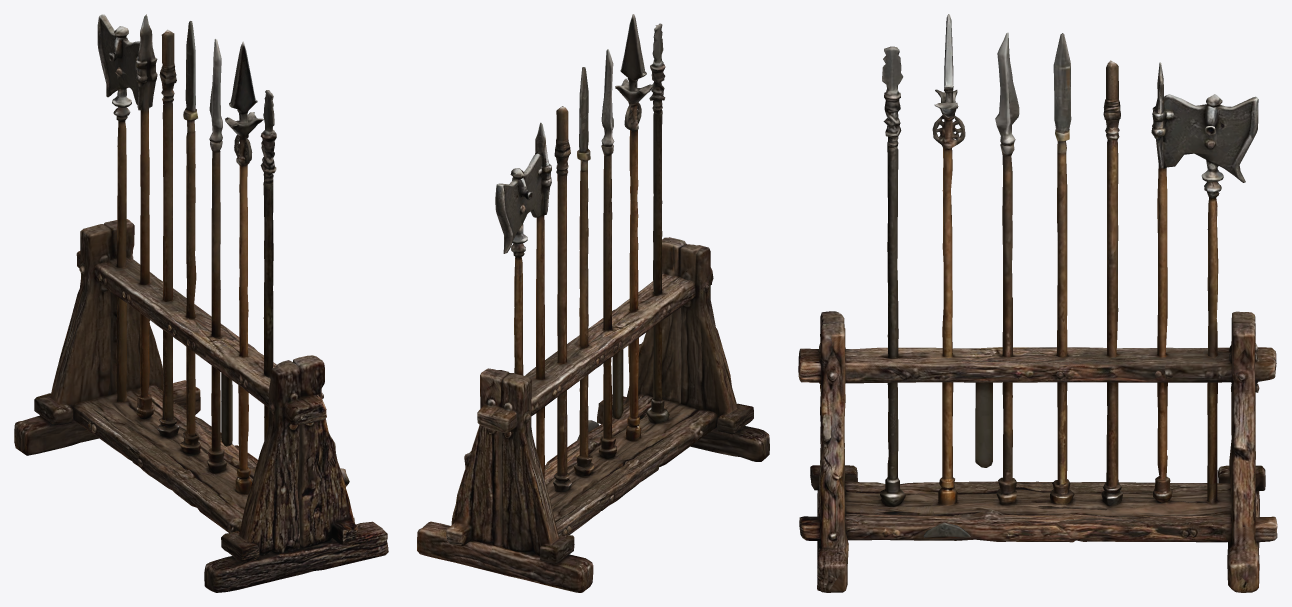
Rendered from rack-high.glb.
The picture shows the model from 3 angles, left to right: view 1: azimuth 30°, elevation 25°; view 2: azimuth 150°, elevation 25°; view 3: azimuth 270°, elevation 25°; orthographic projection. The views are drawn at different scales.
Size of the model in its own units: 0.3749 by 0.9994 by 0.8137.
Materials: 1 (1 with a texture image).
